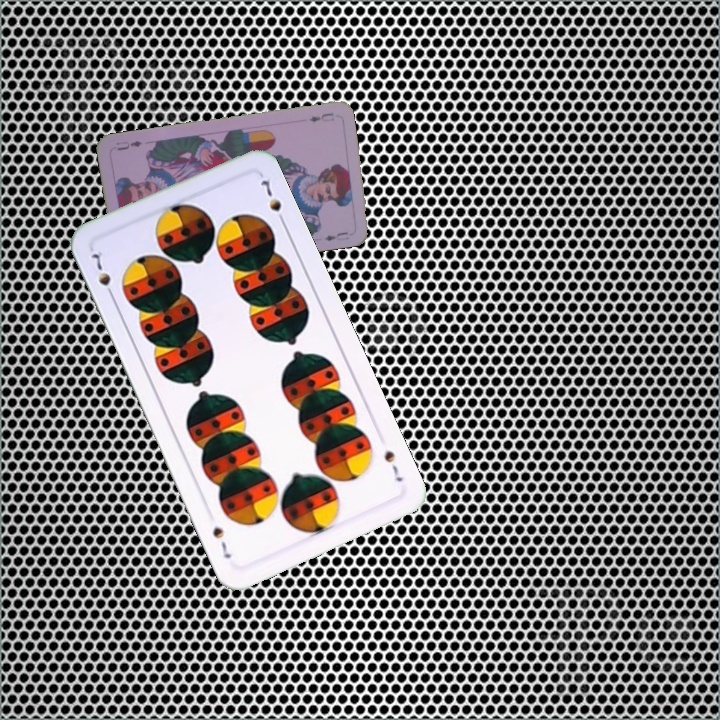EU: (305, 109, 337, 124)
S7: (87, 246, 117, 302), (380, 446, 406, 485)
